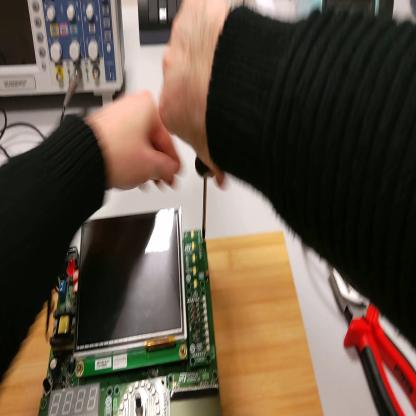hand: (161, 2, 235, 192), (92, 91, 183, 194)
low voltage board: (39, 202, 225, 415)
oscilloscope: (2, 1, 127, 108)
pliers: (331, 268, 416, 416)
screwdriver-: (196, 154, 215, 239)
socket: (382, 1, 395, 20)
welder station: (299, 2, 381, 27)
working area: (1, 225, 328, 416)
